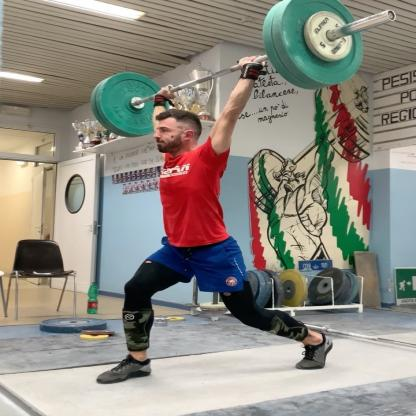barbell: (282, 1, 365, 87), (100, 73, 170, 136)
